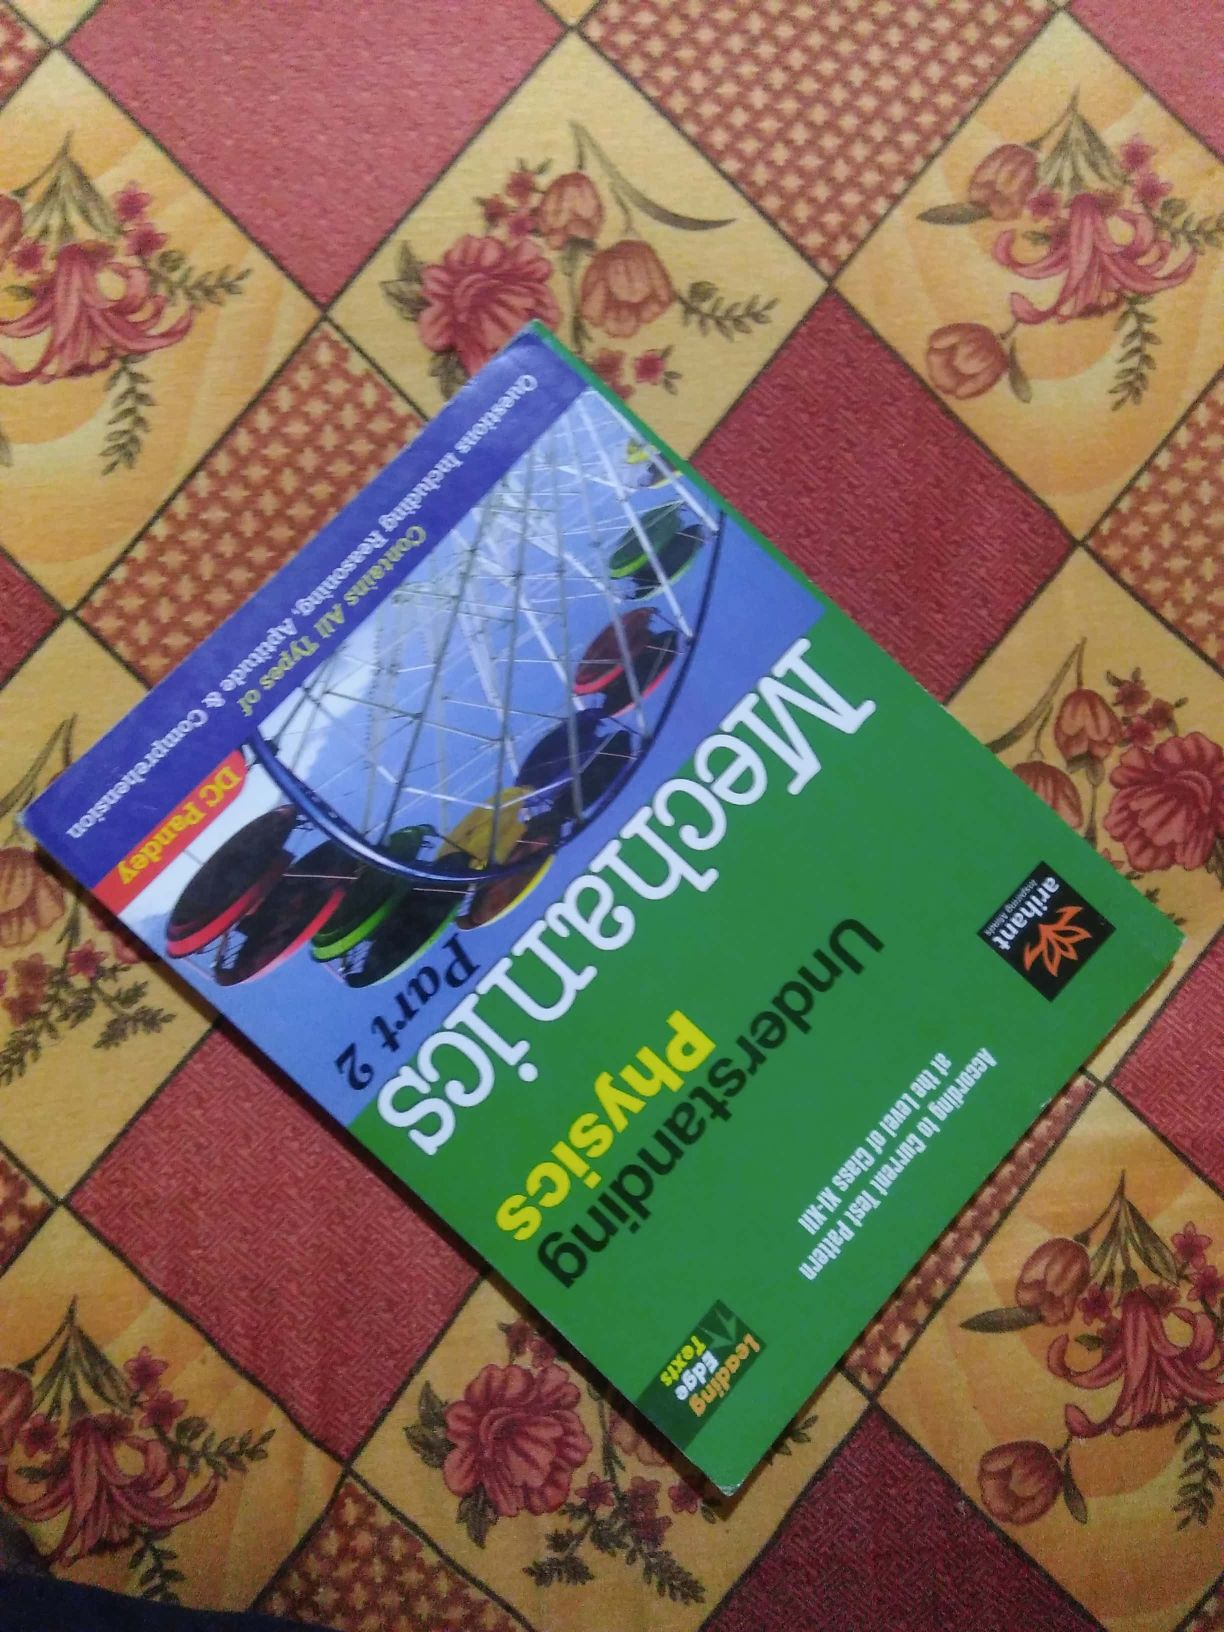mechanics: (93, 412, 1117, 1444)
